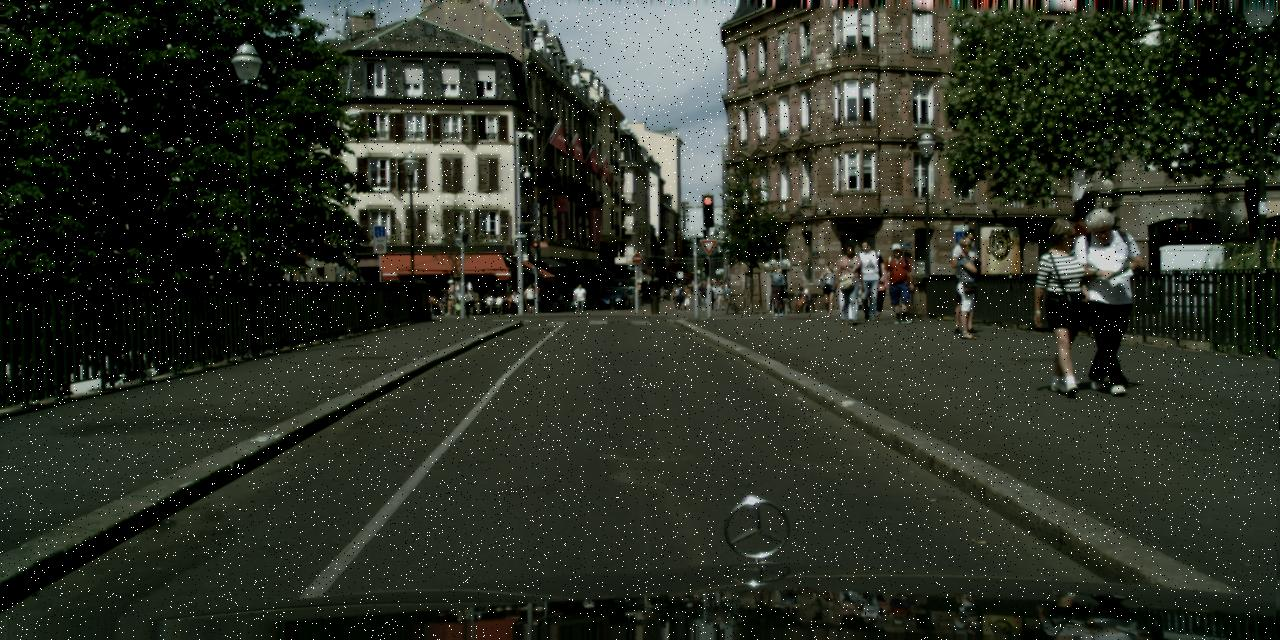ped: (1066, 207, 1141, 392), (1028, 216, 1100, 392), (949, 230, 990, 332), (946, 236, 986, 338), (882, 243, 915, 324), (851, 241, 884, 320), (834, 244, 866, 325), (867, 258, 891, 318), (818, 261, 841, 317), (768, 266, 788, 316), (443, 278, 458, 314), (458, 286, 471, 317), (698, 280, 709, 311), (524, 284, 536, 312), (574, 284, 585, 312), (715, 283, 726, 309), (706, 283, 716, 309), (671, 283, 681, 308), (681, 286, 691, 311), (676, 284, 685, 310), (439, 290, 448, 314), (724, 283, 730, 306), (658, 286, 664, 298), (712, 284, 717, 296)
